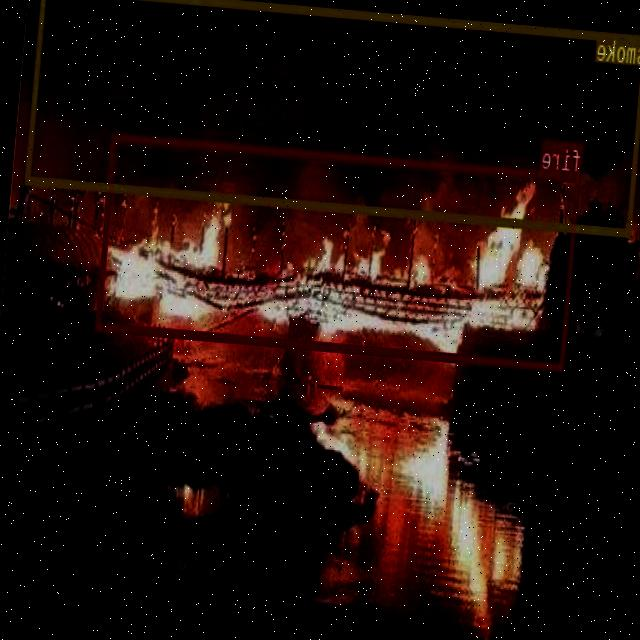fire: (96, 132, 581, 370)
smoke: (26, 0, 640, 234)
